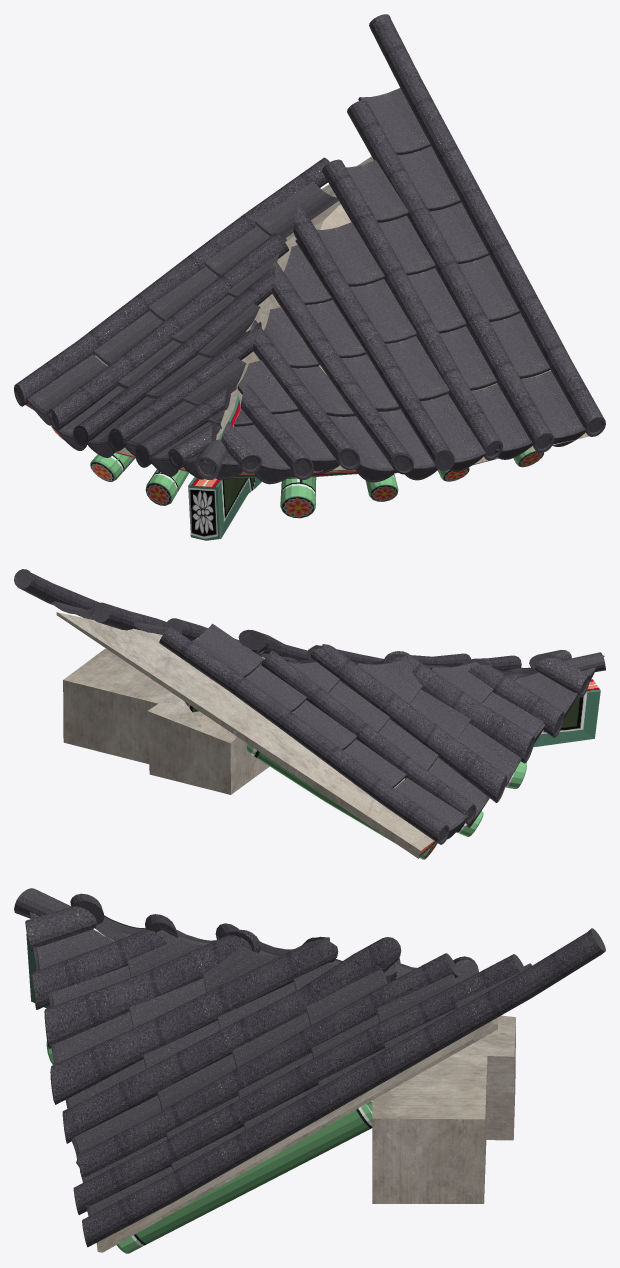
Rendered from SM_R_RoofCorner_12.fbx.
The picture shows the model from 3 angles, top to bottom: view 1: azimuth 30°, elevation 25°; view 2: azimuth 150°, elevation 25°; view 3: azimuth 270°, elevation 25°; orthographic projection. The views are drawn at different scales.
Parts seen in each view (by area): view 1: SM_R_RoofCorner_12; view 2: SM_R_RoofCorner_12; view 3: SM_R_RoofCorner_12.
Boxes of the visible parts, x1,y1,x2,y2 form: SM_R_RoofCorner_12: (14, 14, 605, 540); SM_R_RoofCorner_12: (14, 569, 605, 859); SM_R_RoofCorner_12: (14, 888, 605, 1253).
Bounding box in the file's own units: 329 × 328 × 215.
Materials: 4 (4 with a texture image).
